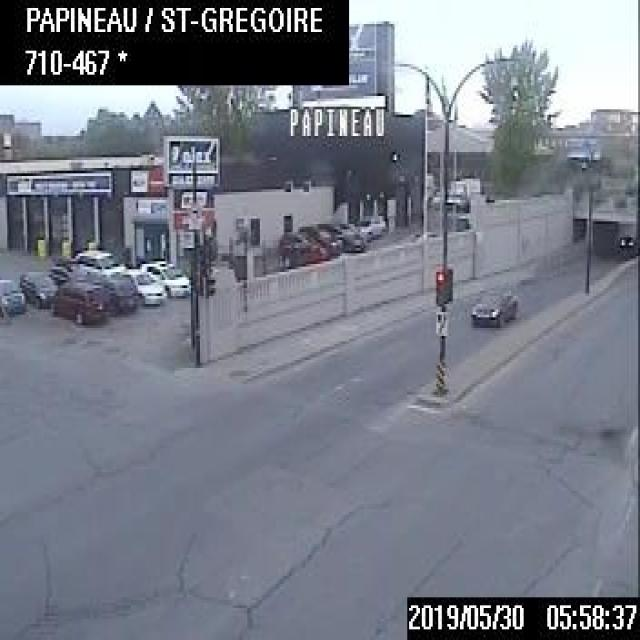vehicle: (50, 280, 108, 326), (140, 256, 188, 296), (278, 231, 324, 272), (469, 288, 520, 323), (323, 214, 364, 254), (127, 266, 164, 308), (21, 268, 58, 309), (74, 246, 120, 278), (300, 222, 340, 258), (443, 177, 482, 213), (0, 273, 27, 321), (351, 212, 384, 240), (613, 230, 638, 253)
